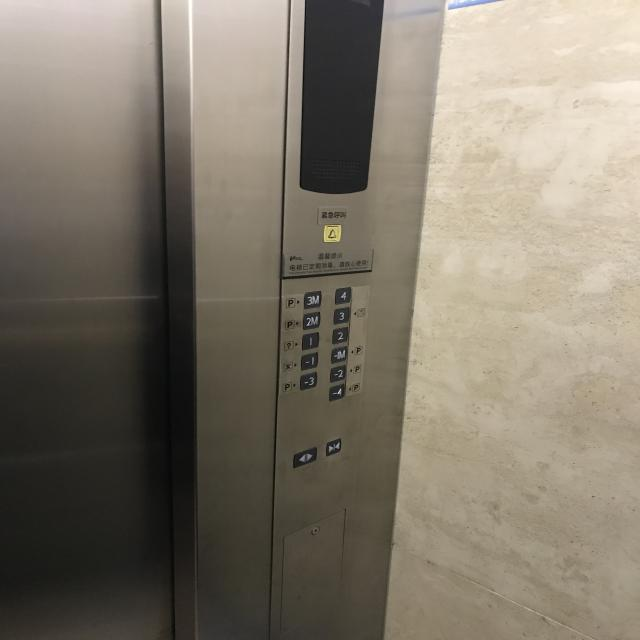-1: (300, 351, 318, 371)
-1M: (330, 345, 347, 364)
-2: (329, 364, 346, 383)
-3: (298, 371, 318, 391)
-4: (328, 383, 345, 401)
1: (300, 331, 320, 351)
2: (331, 326, 349, 344)
2M: (302, 311, 321, 330)
3: (332, 306, 350, 324)
3M: (302, 290, 322, 310)
4: (334, 286, 351, 304)
alarm: (322, 224, 342, 243)
close: (324, 436, 342, 456)
open: (292, 446, 318, 469)
